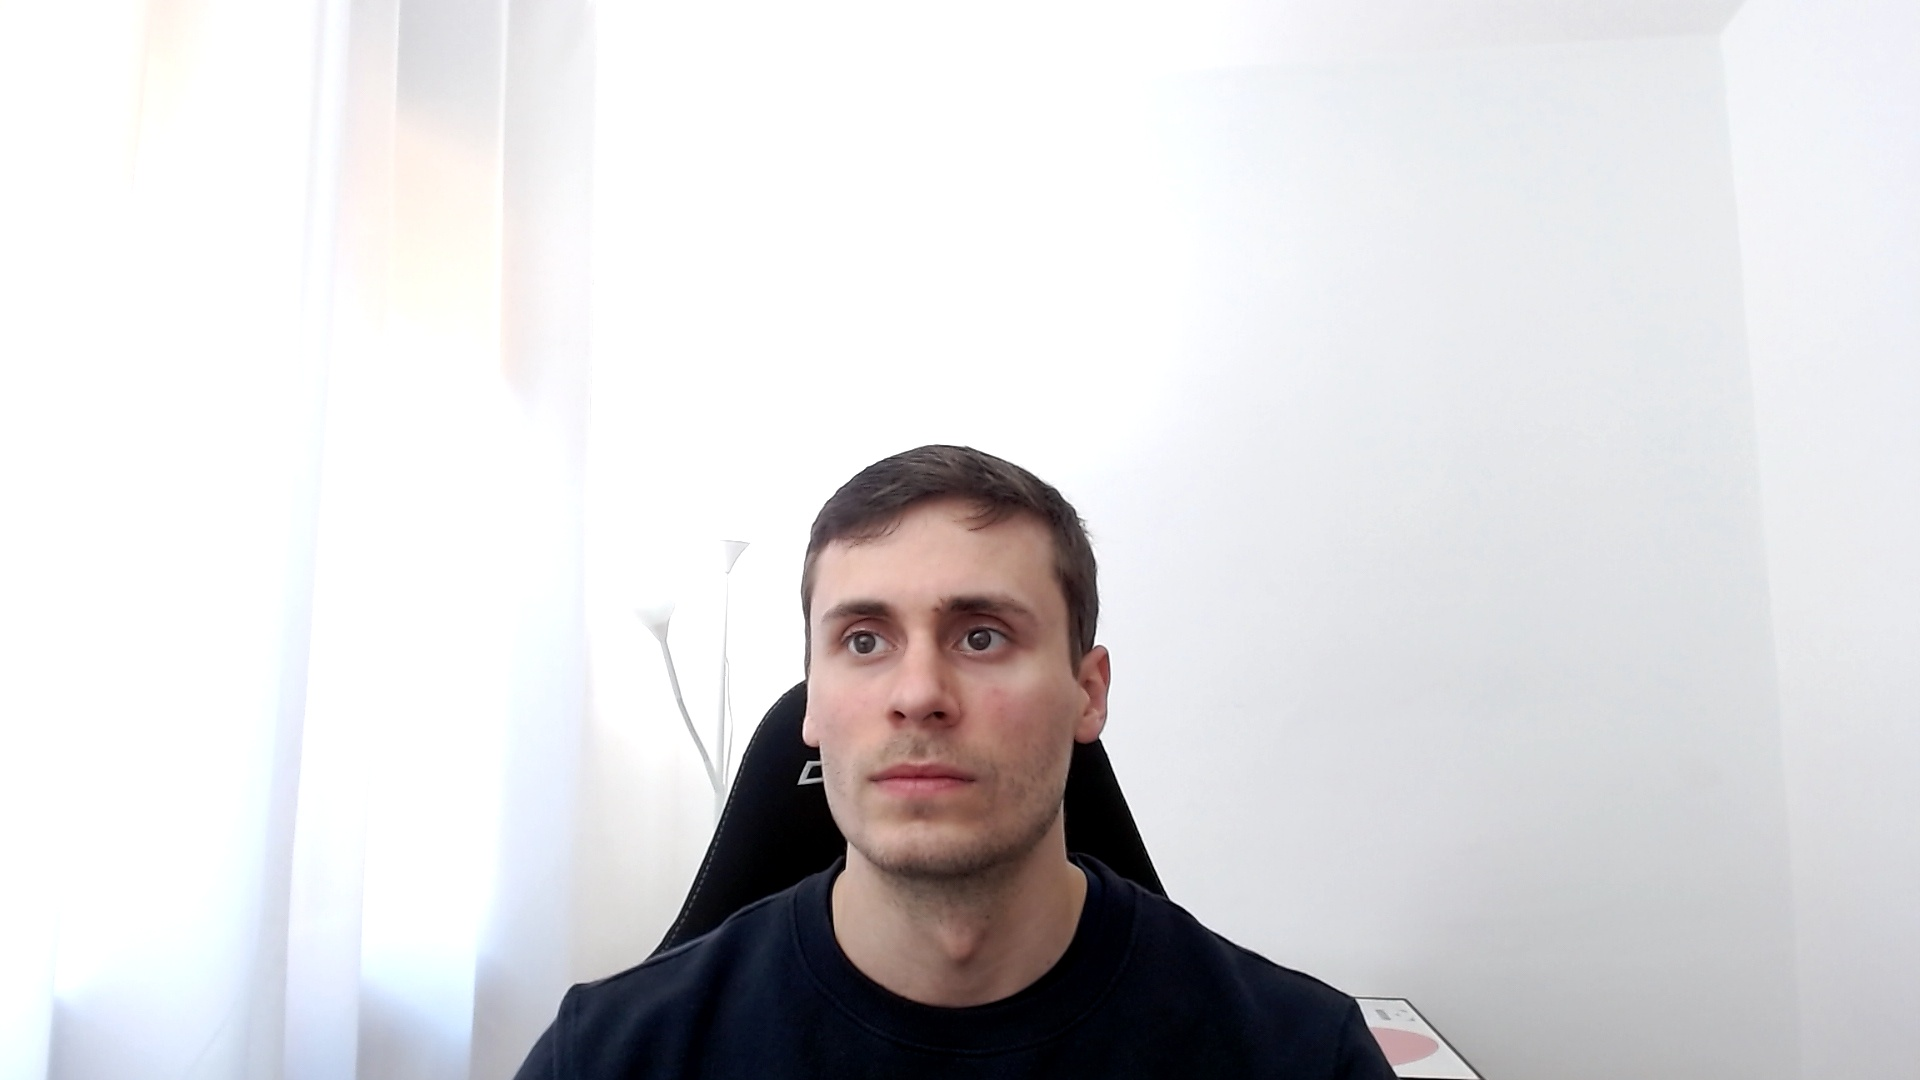No-mask: (802, 445, 1111, 876)
